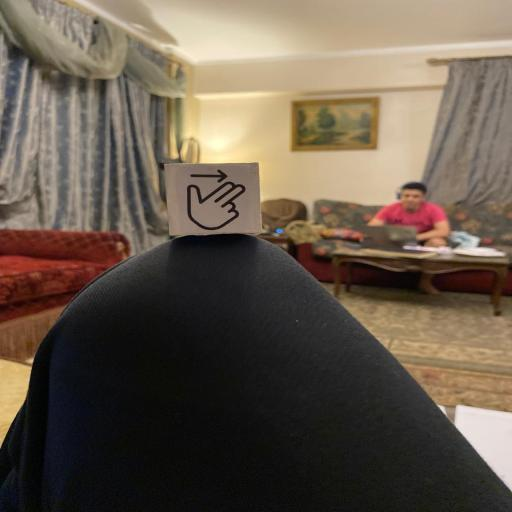RightSwipe: (164, 162, 265, 236)
